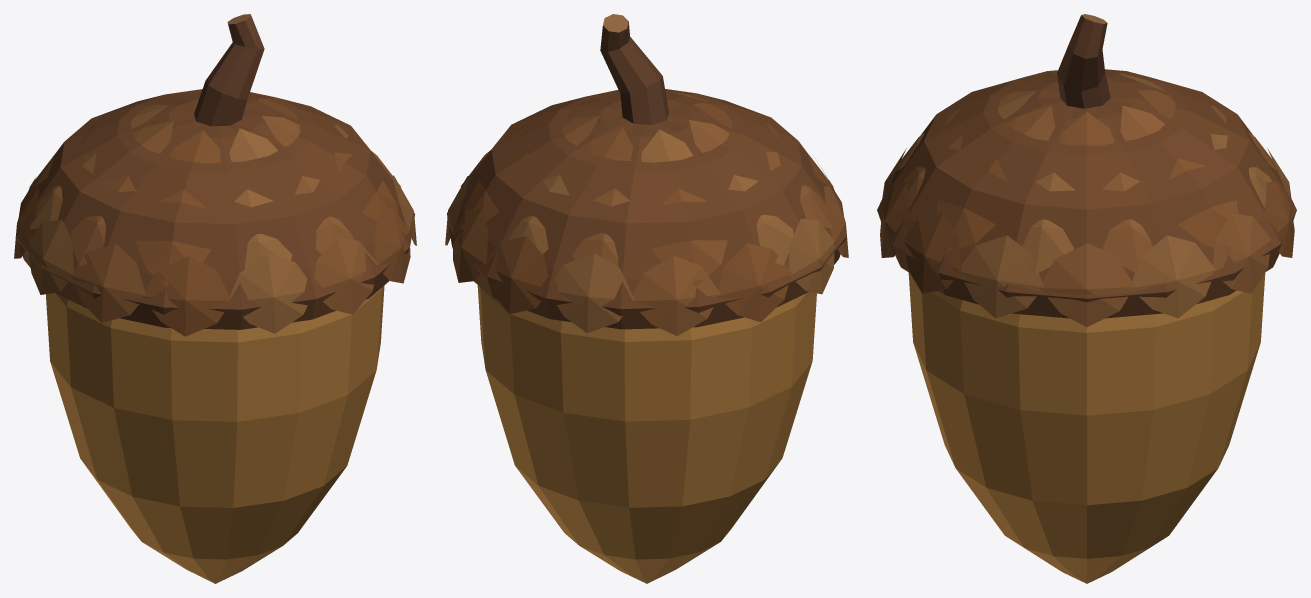
Rendered from Acorn.glb.
3 renders of one model, left to right at view 1: azimuth 30°, elevation 25°; view 2: azimuth 150°, elevation 25°; view 3: azimuth 270°, elevation 25°, orthographic. The views are drawn at different scales.
Visible parts, largest first — view 1: Acorn; view 2: Acorn; view 3: Acorn.
Part boxes in pixels (x1,y1,x2,y2): Acorn: (14, 14, 416, 583); Acorn: (445, 14, 848, 583); Acorn: (877, 14, 1296, 583).
Bounding box in the file's own units: 0.8525 × 1.3 × 0.85.
